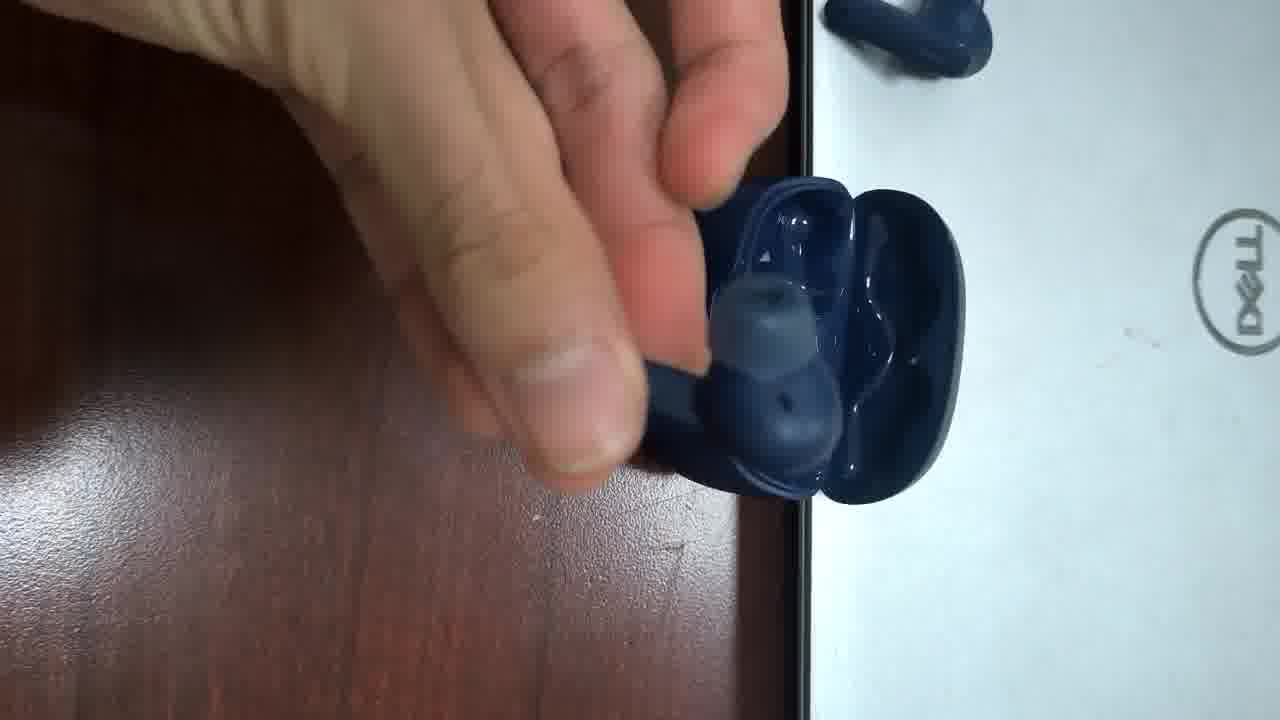Earbud: (648, 274, 841, 482), (822, 0, 992, 76), (778, 491, 784, 492)
